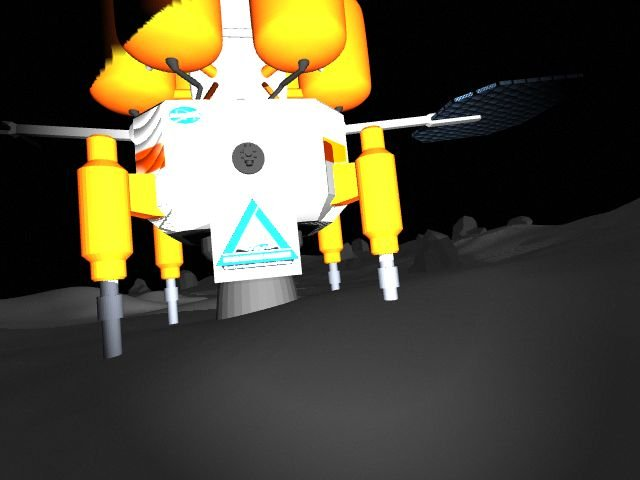basemarker: (215, 197, 300, 269)
